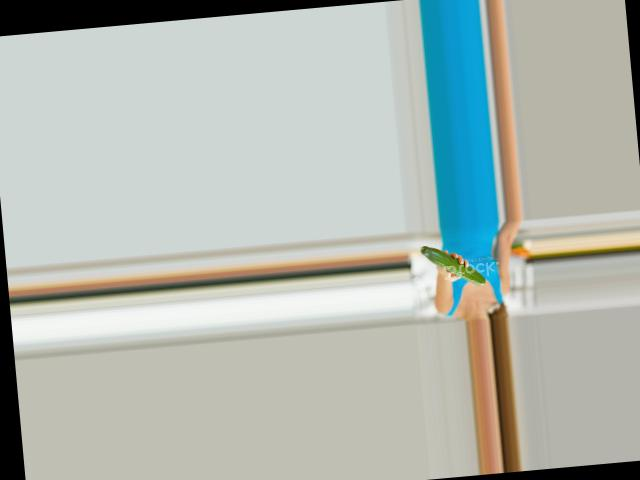cucumber: (420, 240, 486, 289)
